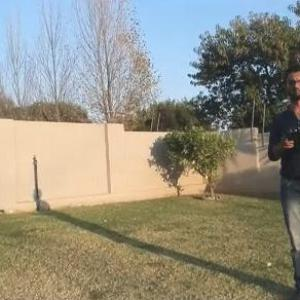follow: (265, 52, 299, 296)
